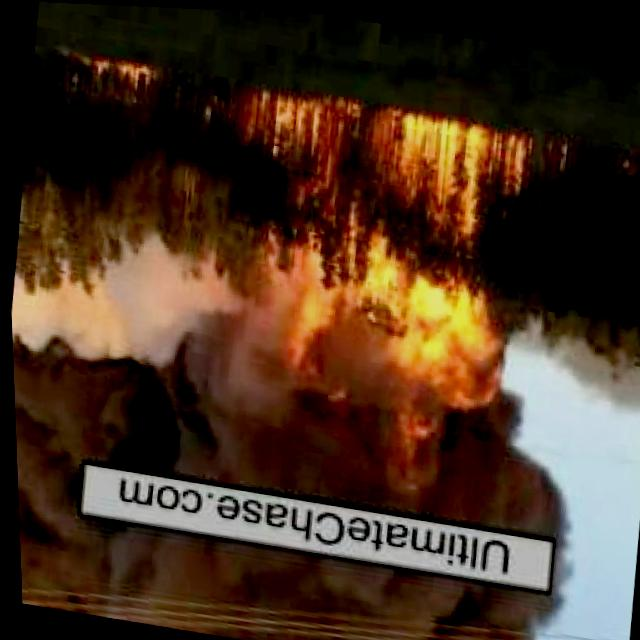helmet: (195, 80, 525, 452), (62, 51, 163, 97)
no_helmet: (10, 355, 568, 525), (15, 500, 558, 640), (6, 210, 220, 380)
